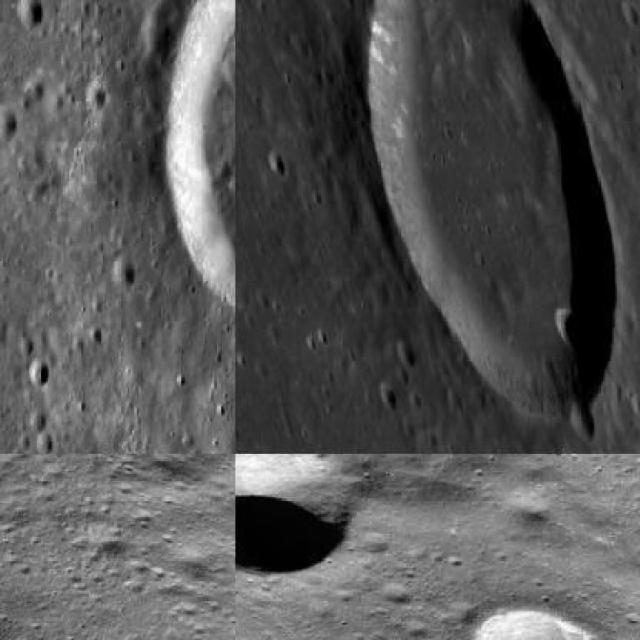crater: (362, 0, 618, 425), (161, 0, 233, 358), (236, 454, 350, 575), (474, 608, 592, 638), (571, 398, 594, 442), (14, 0, 43, 32), (268, 152, 286, 177)
